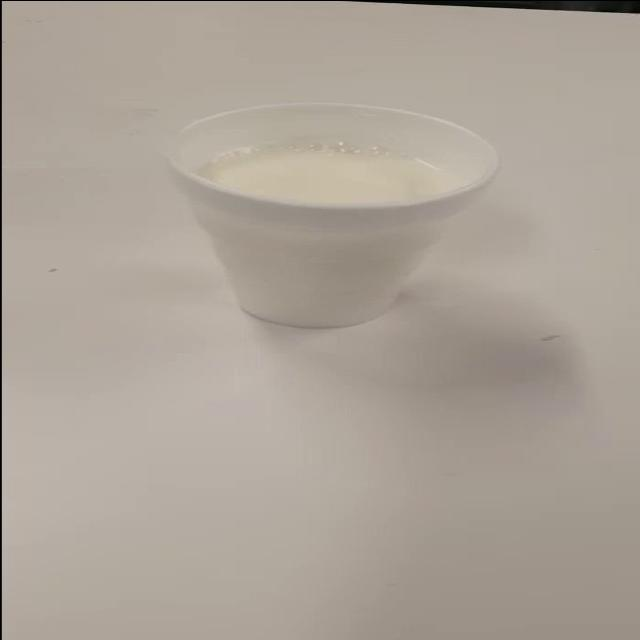Milk: (143, 84, 538, 330)
